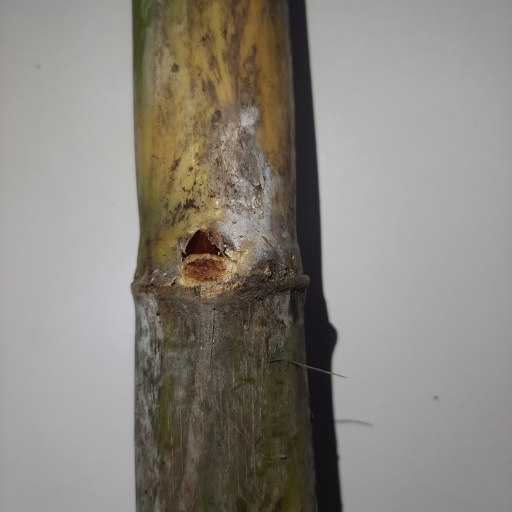Damage_Bud: (181, 230, 229, 282)
